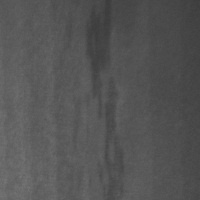inclusion: (81, 1, 123, 197)
